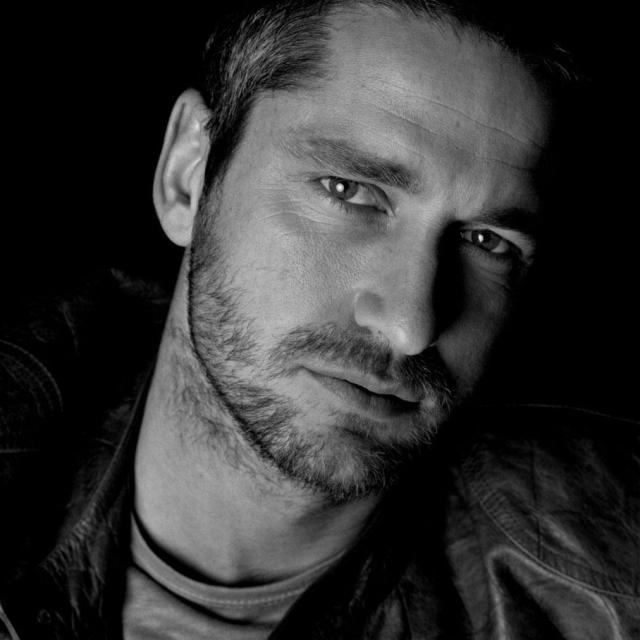no-earmuff: (134, 77, 224, 264)
